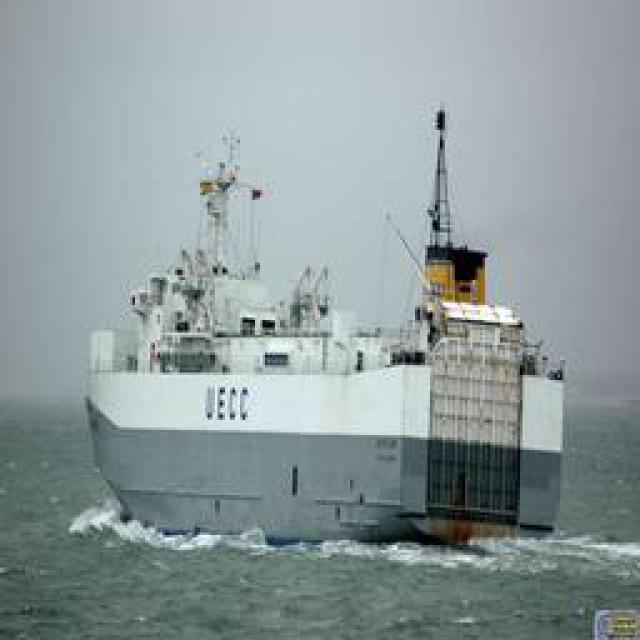Ship: (89, 82, 544, 540)
